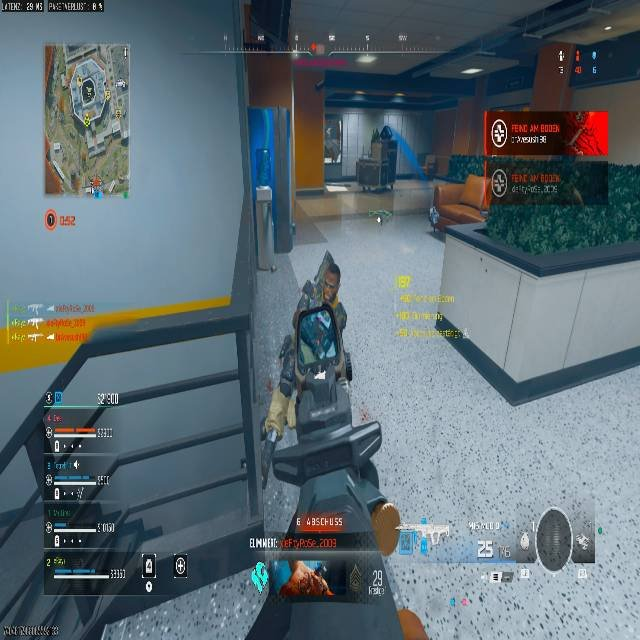player: (291, 253, 346, 370), (326, 139, 340, 164)
